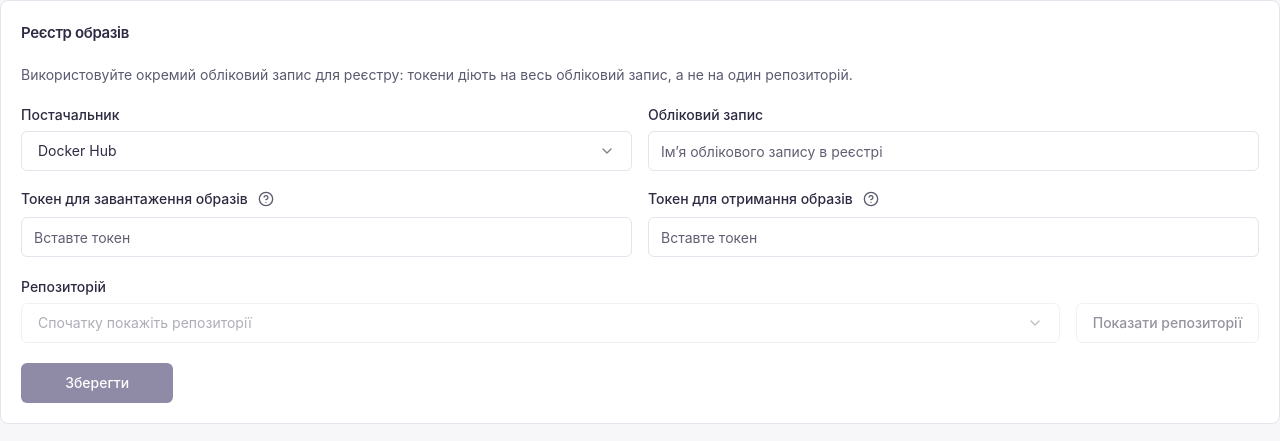
ImageRegistryCard › keeps the repository dropdown disabled until the repositories are listed
Type "icebox" into the field labelled "Обліковий запис" at (954, 151), box x1=648 y1=131 x2=1259 y2=171
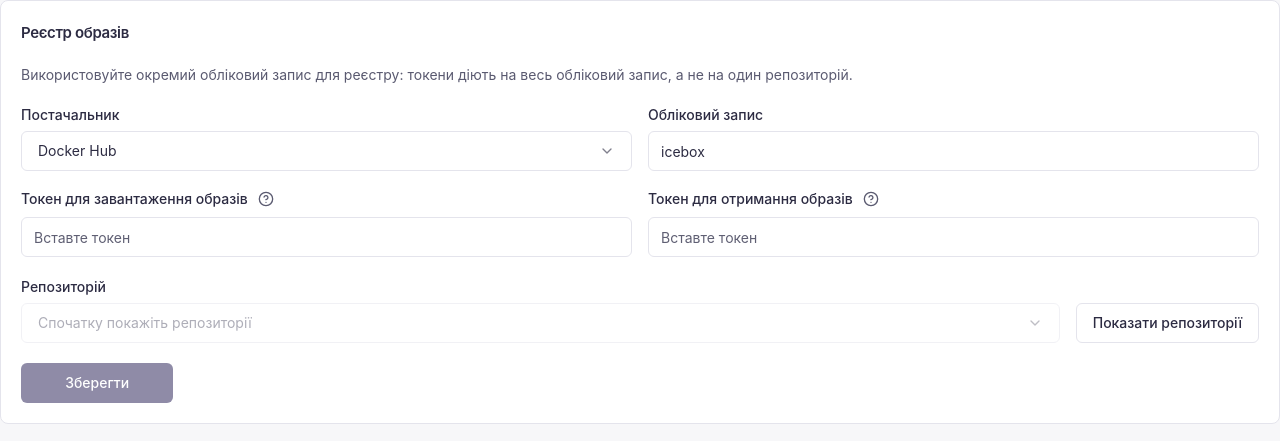
Type "tok" into the password field labelled "Токен для завантаження образів" at (326, 237), box x1=21 y1=217 x2=632 y2=257
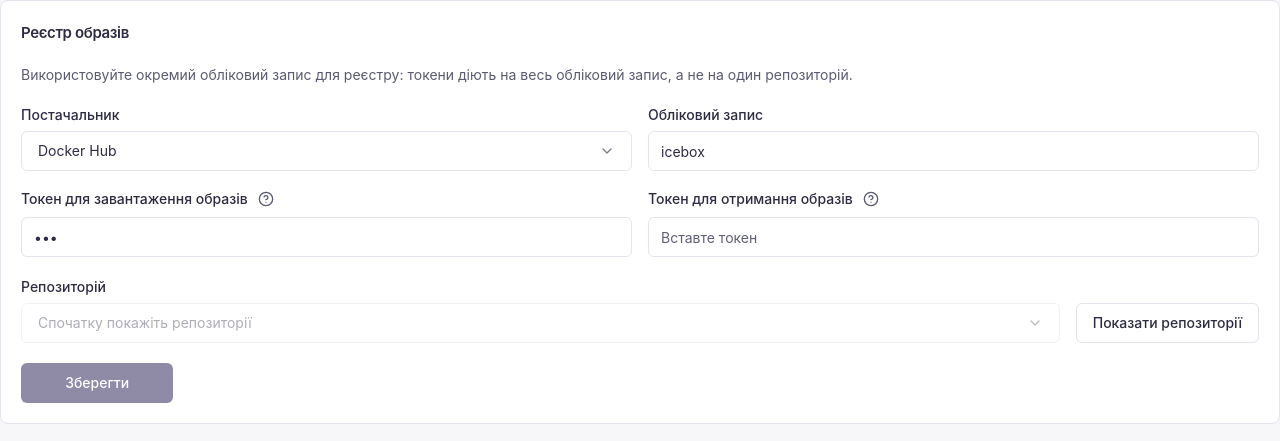
Expected: the button named "Репозиторій" is disabled, x1=21 y1=303 x2=1060 y2=343
Click the button "Показати репозиторії" at (1167, 323), box x1=1076 y1=303 x2=1259 y2=343
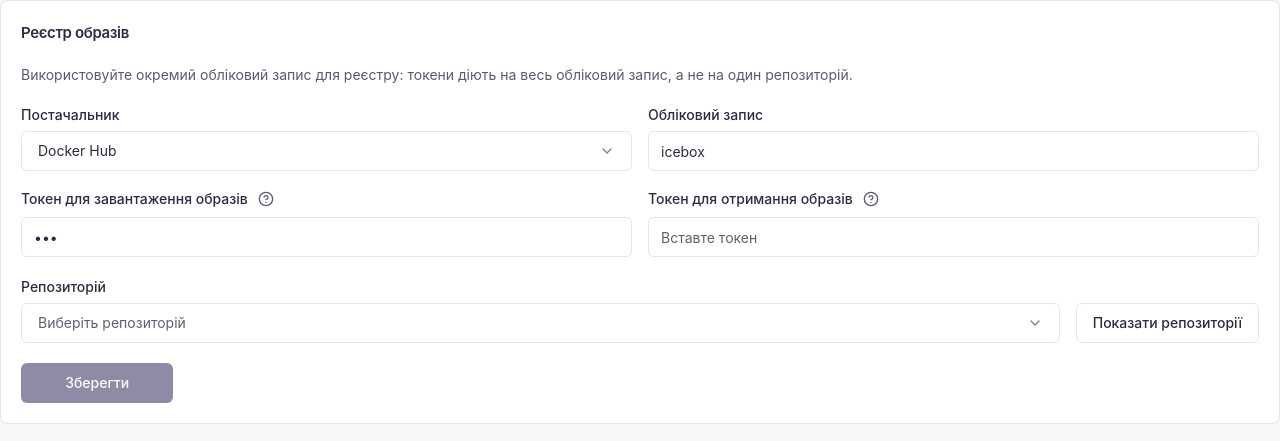
Expected: the button "Виберіть репозиторій" is enabled, x1=21 y1=303 x2=1060 y2=343
